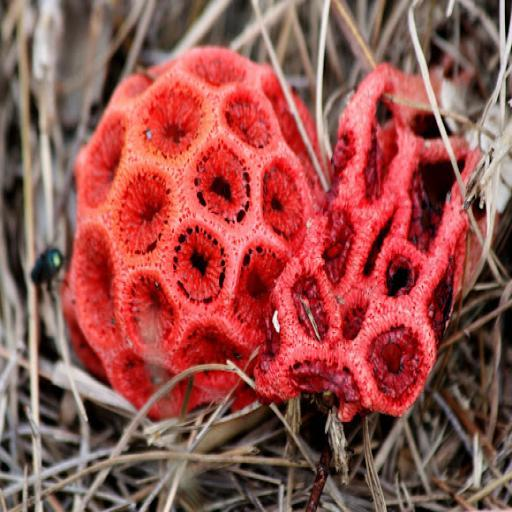mushroom: (60, 43, 320, 428), (273, 44, 502, 420)
